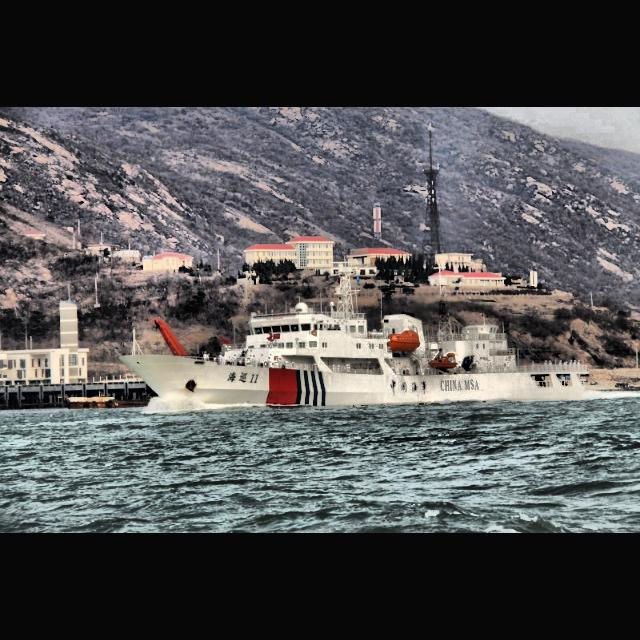patrol_vessel: (120, 258, 590, 412)
